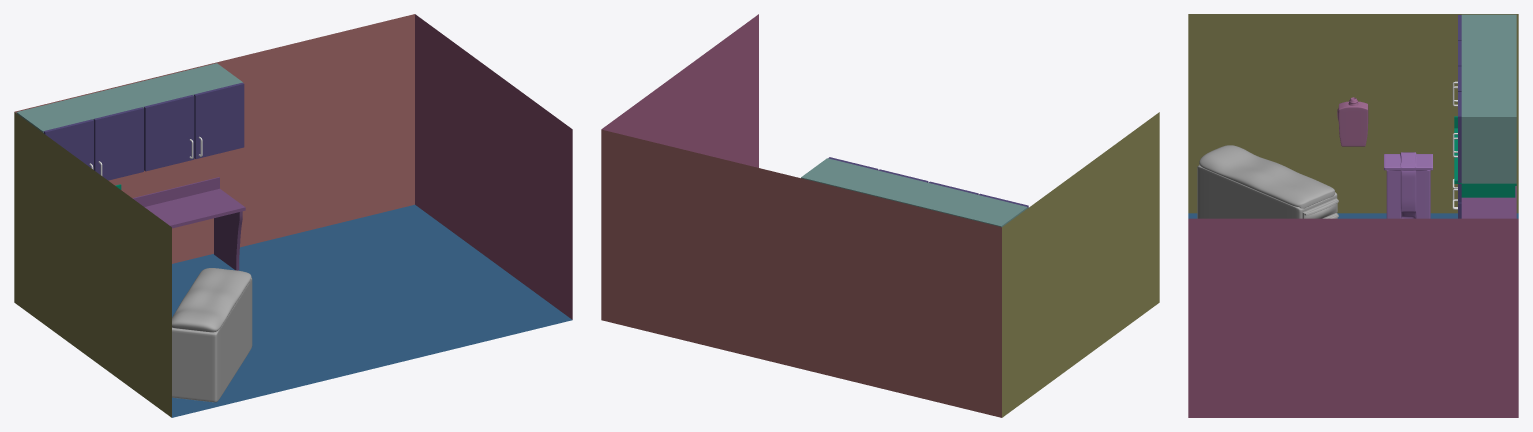
Rendered from ORU_Room_Full.fbx.
The picture shows the model from 3 angles, left to right: view 1: azimuth 30°, elevation 25°; view 2: azimuth 150°, elevation 25°; view 3: azimuth 270°, elevation 25°; orthographic projection. The views are drawn at different scales.
Parts seen in each view (by area): view 1: ORU_Room_pstephens; view 2: ORU_Room_pstephens; view 3: ORU_Room_pstephens.
Part boxes in pixels (x1,y1,x2,y2): ORU_Room_pstephens: (14, 14, 572, 417); ORU_Room_pstephens: (601, 14, 1159, 417); ORU_Room_pstephens: (1188, 14, 1518, 417).
Size of the model in its own units: 132 by 90 by 60.
